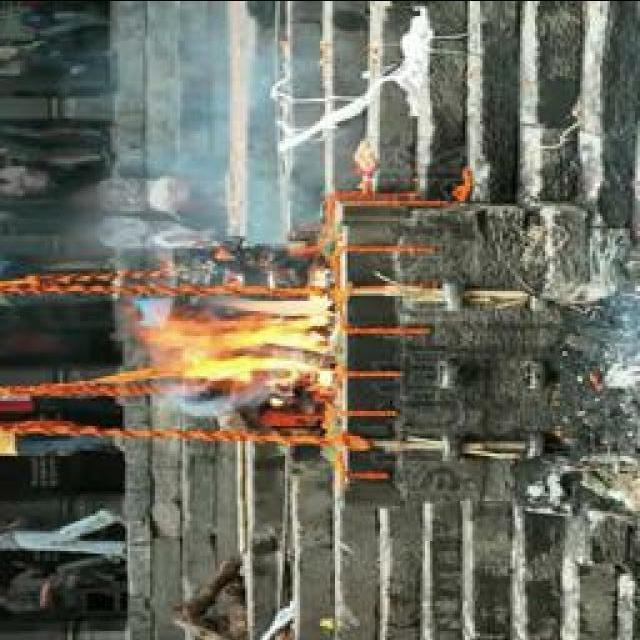Fire: (133, 280, 340, 386)
